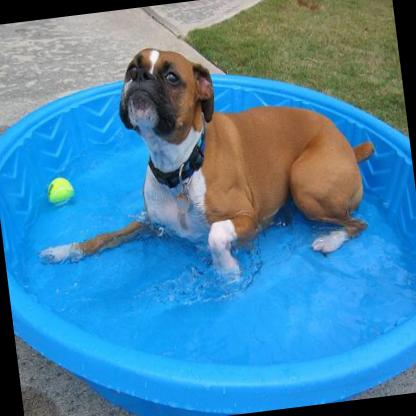boxer: (10, 16, 388, 302)
